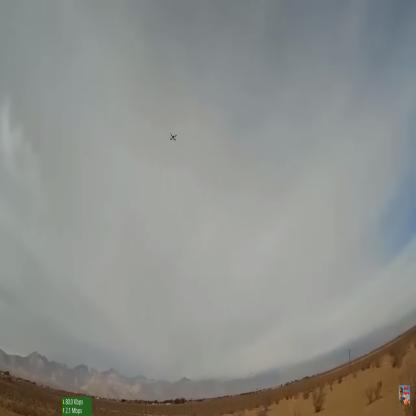drone: (168, 128, 179, 145)
